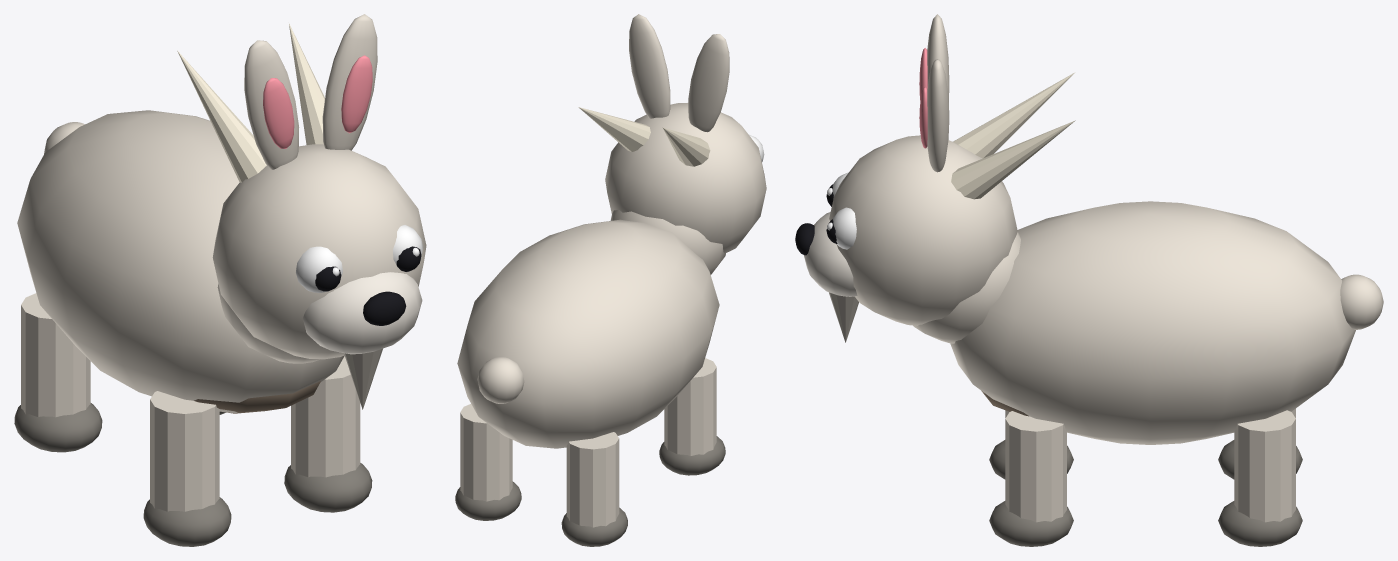
The picture shows the model from 3 angles, left to right: view 1: azimuth 30°, elevation 25°; view 2: azimuth 150°, elevation 25°; view 3: azimuth 270°, elevation 25°; orthographic projection. The views are drawn at different scales.
Parts seen in each view (by area): view 1: Goat; view 2: Goat; view 3: Goat.
Part boxes in pixels (x1,y1,x2,y2): Goat: (14,14,426,546); Goat: (455,14,766,546); Goat: (795,14,1383,546).
Bounding box in the file's own units: 1.7 × 3.39 × 3.82.
1 material, 1 textured.
